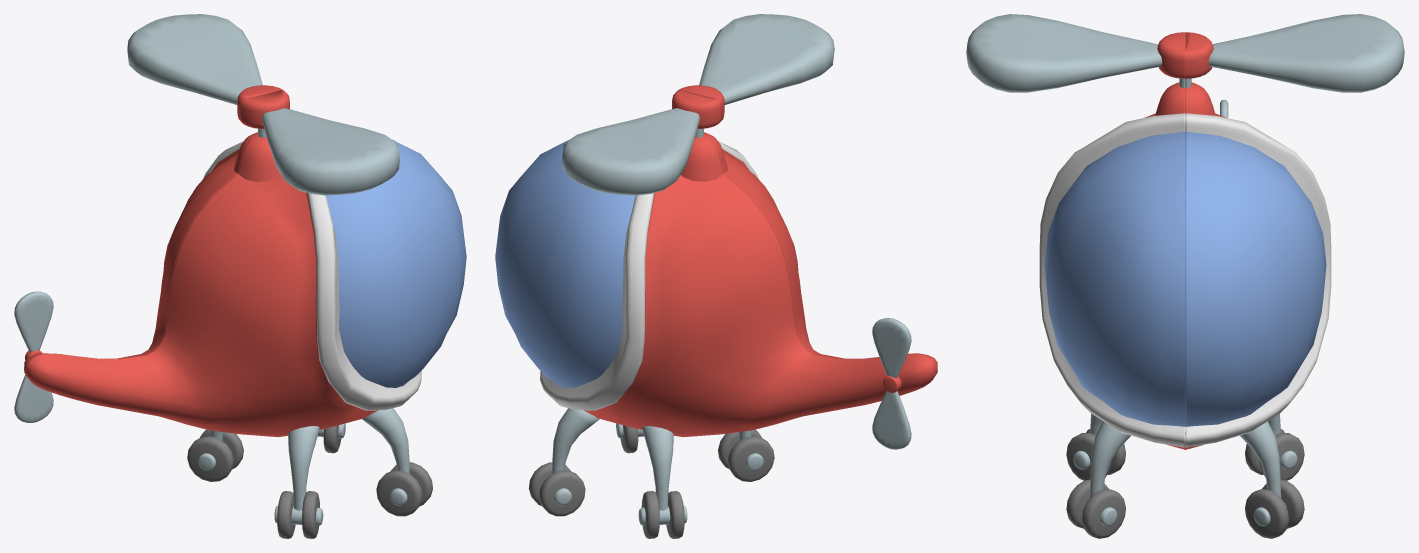
The model's file is SM_Helicopter_02a.fbx.
3 views of the same model, side by side, from view 1: azimuth 30°, elevation 25°; view 2: azimuth 150°, elevation 25°; view 3: azimuth 270°, elevation 25° (orthographic). The views are drawn at different scales.
Visible parts, largest first — view 1: Helicopter_01, Helicopter_02; view 2: Helicopter_02, Helicopter_01; view 3: Helicopter_02, Helicopter_01.
Part boxes in pixels (x1,y1,x2,y2): Helicopter_01: (26,90,466,538); Helicopter_02: (14,14,442,481); Helicopter_02: (495,90,935,538); Helicopter_01: (522,14,937,481); Helicopter_02: (1185,14,1404,538); Helicopter_01: (966,14,1185,538).
Size of the model in its own units: 51.98 by 47.9 by 42.88.
